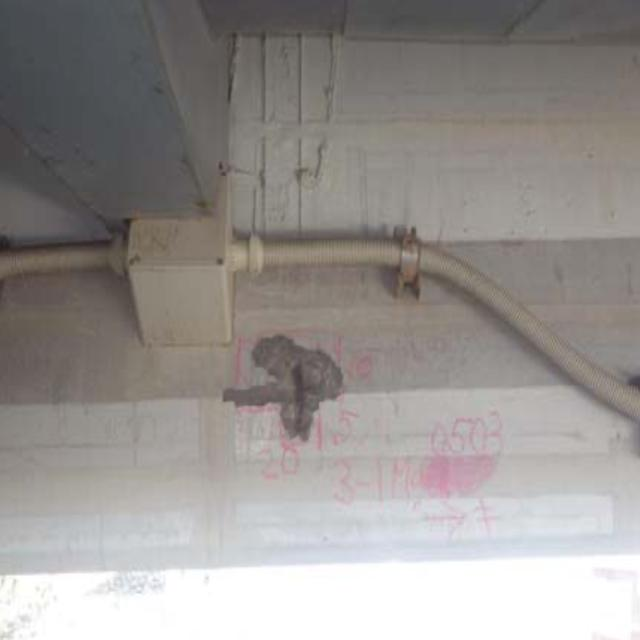spalling: (223, 307, 358, 449)
